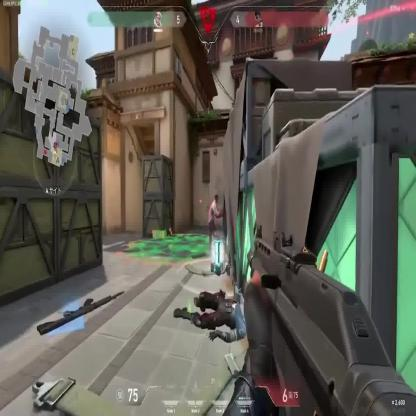enemy: (206, 195, 223, 261)
enemy_head: (214, 195, 218, 206)
